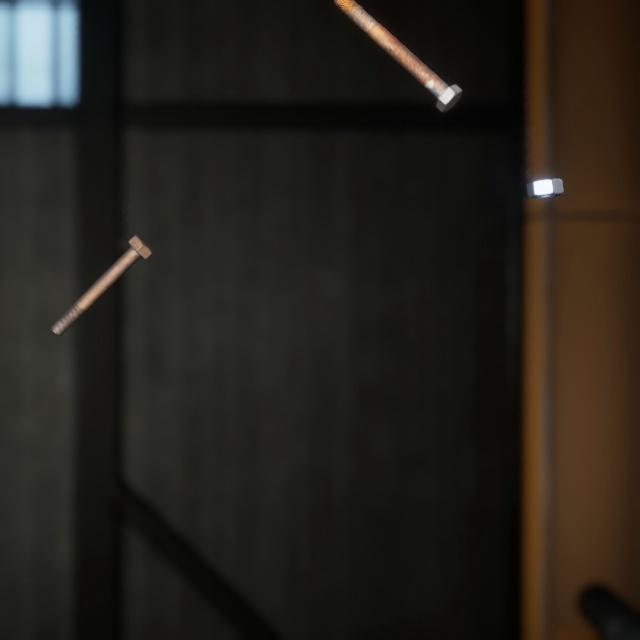bolt: (333, 0, 466, 107), (46, 213, 158, 324)
nut: (522, 159, 568, 188)
